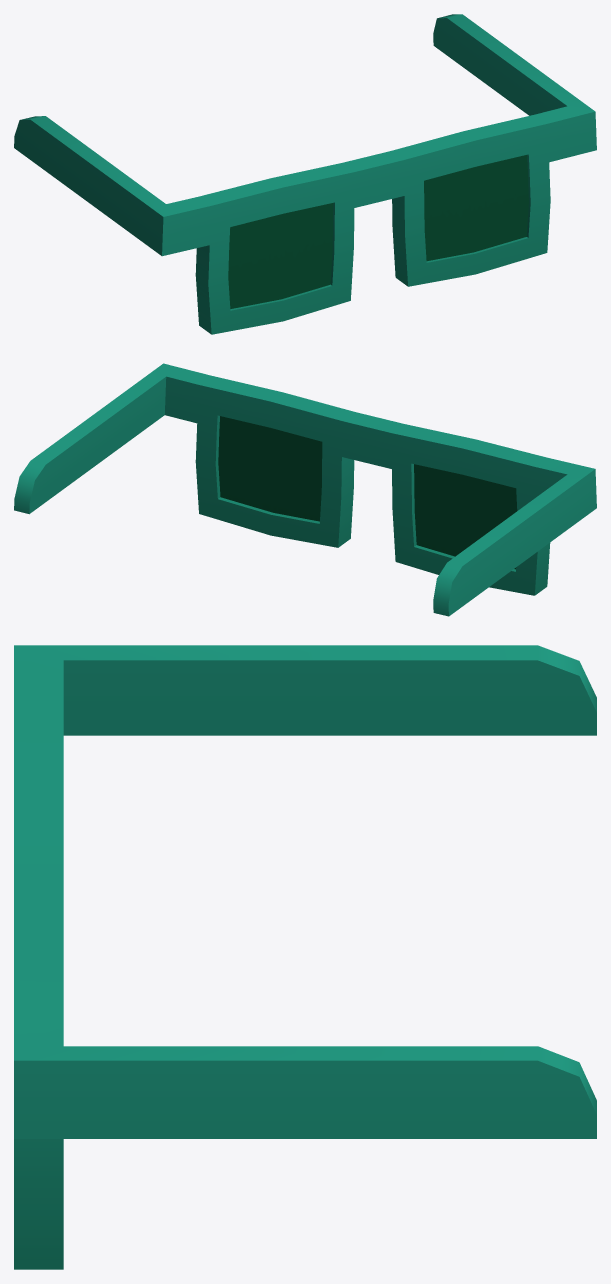
Rendered from Shades.FBX.
3 views of the same model, one above another, from view 1: azimuth 30°, elevation 25°; view 2: azimuth 150°, elevation 25°; view 3: azimuth 270°, elevation 25° (orthographic). The views are drawn at different scales.
Parts seen in each view (by area): view 1: Shades; view 2: Shades; view 3: Shades.
Part boxes in pixels (x1,y1,x2,y2): Shades: (14, 14, 596, 334); Shades: (14, 363, 596, 616); Shades: (14, 645, 596, 1269).
Size of the model in its own units: 81.9 by 24.1 by 48.26.
Materials: 1 (1 with a texture image).
